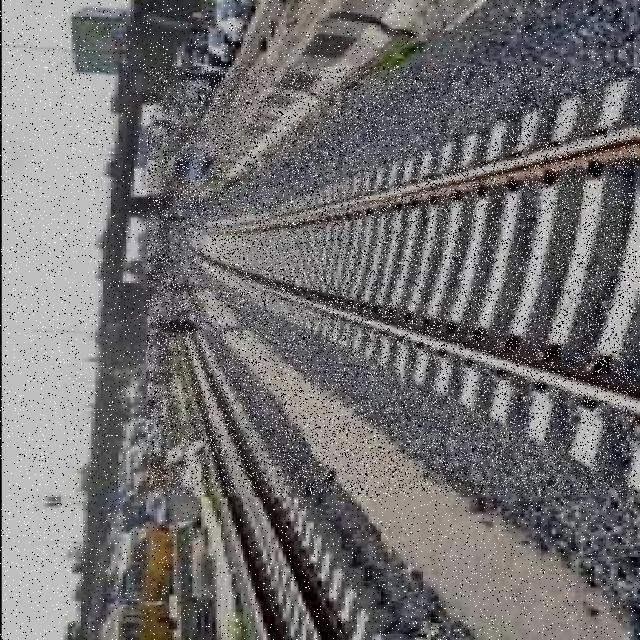rail: (148, 69, 638, 496)
